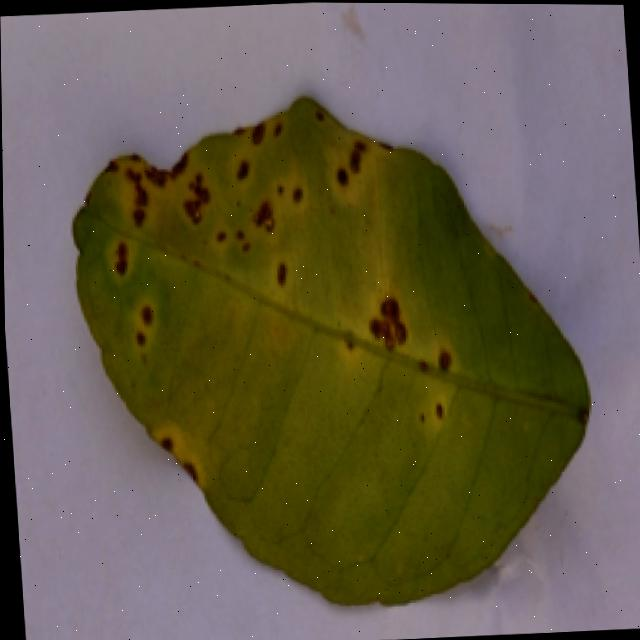canker: (77, 98, 591, 601), (77, 139, 218, 343), (124, 294, 171, 364), (215, 198, 275, 248), (330, 130, 385, 184), (211, 109, 290, 144), (371, 299, 408, 348), (269, 176, 307, 199), (442, 350, 451, 369)
